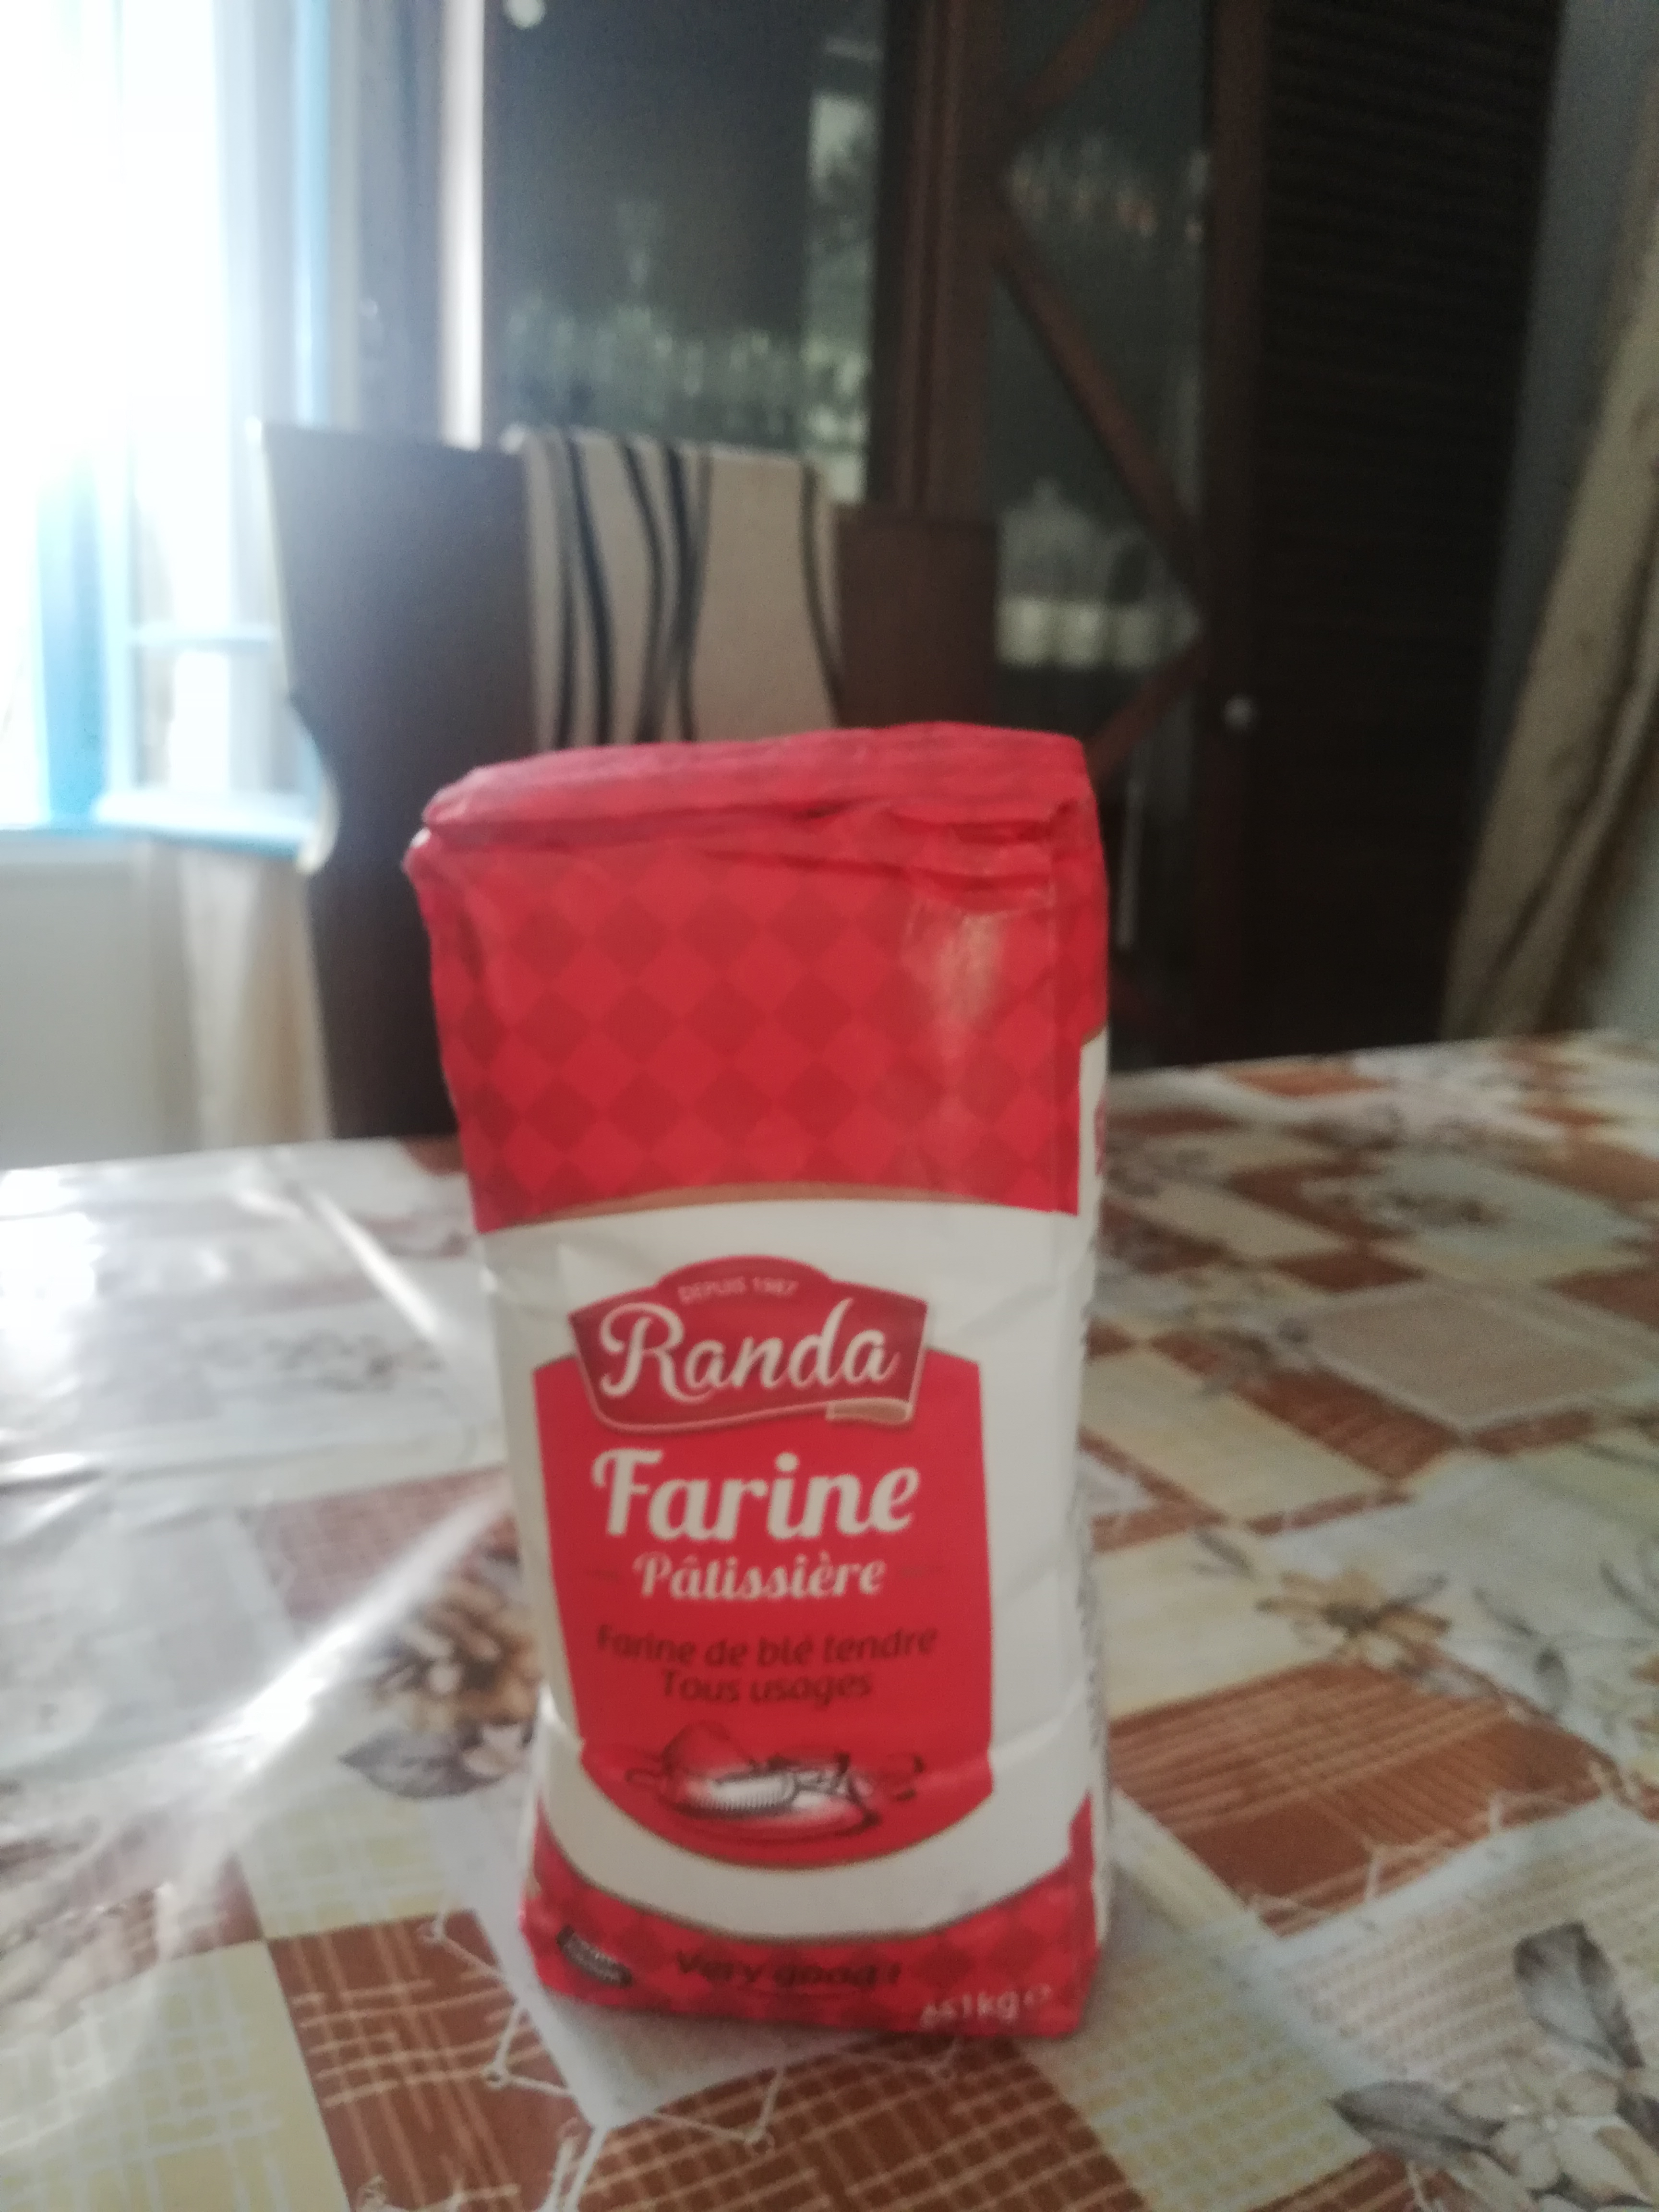Farine Randa: (408, 725, 1117, 2045)
